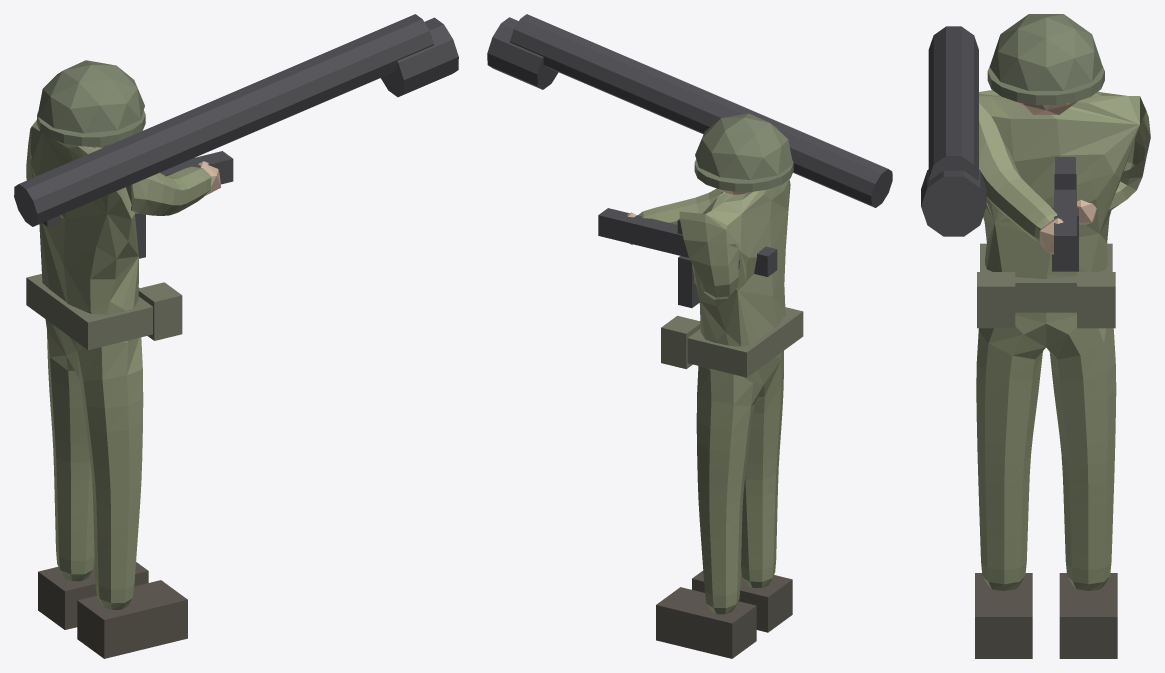
Rendered from at_infantry.glb.
3 renders of one model, left to right at view 1: azimuth 30°, elevation 25°; view 2: azimuth 150°, elevation 25°; view 3: azimuth 270°, elevation 25°, orthographic. The views are drawn at different scales.
Parts seen in each view (by area): view 1: at_infantry; view 2: at_infantry; view 3: at_infantry.
Part boxes in pixels (x1,y1,x2,y2): at_infantry: (14, 14, 458, 658); at_infantry: (487, 14, 892, 658); at_infantry: (921, 14, 1150, 658).
Bounding box in the file's own units: 1.37 × 1.77 × 0.5966.
